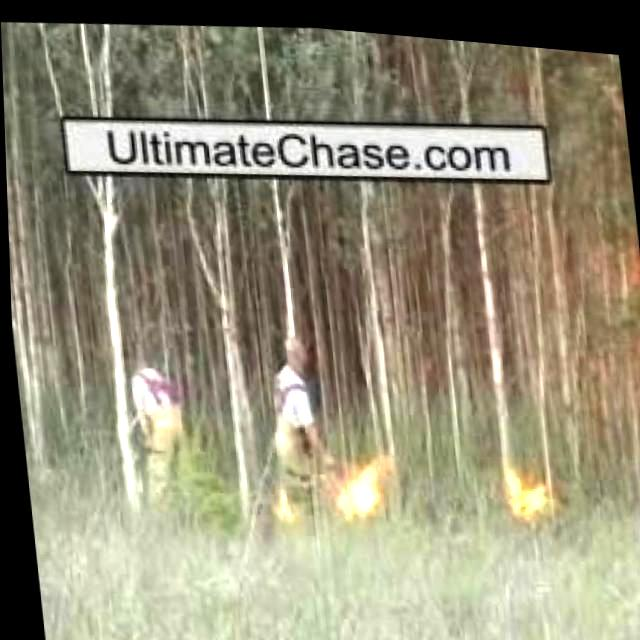fire: (331, 451, 385, 522), (501, 460, 545, 512), (272, 484, 292, 520)
